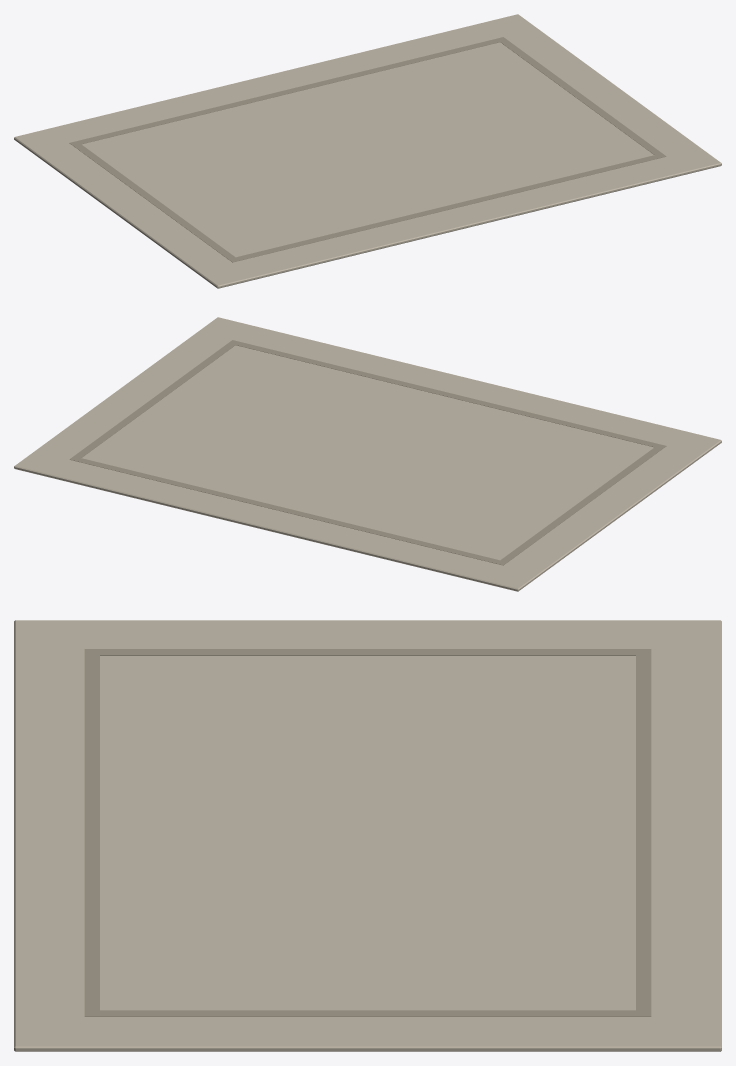
File: 10_dywan_200.glb
3 renders of one model, top to bottom at view 1: azimuth 30°, elevation 25°; view 2: azimuth 150°, elevation 25°; view 3: azimuth 270°, elevation 25°, orthographic. The views are drawn at different scales.
Visible parts, largest first — view 1: Dywan, Dywan_wzor; view 2: Dywan, Dywan_wzor; view 3: Dywan, Dywan_wzor.
Part boxes in pixels (x1,y1,x2,y2): Dywan: (14,14,721,288); Dywan_wzor: (69,37,666,262); Dywan: (14,317,721,591); Dywan_wzor: (69,340,666,565); Dywan: (14,620,721,1051); Dywan_wzor: (84,649,651,1016).
Bounding box in the file's own units: 2 × 0.0128 × 1.4.
